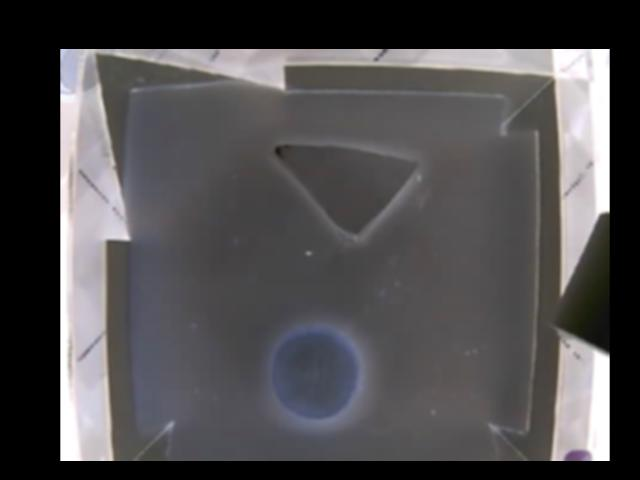China: (274, 144, 419, 242)
Mooli: (270, 323, 360, 418)
